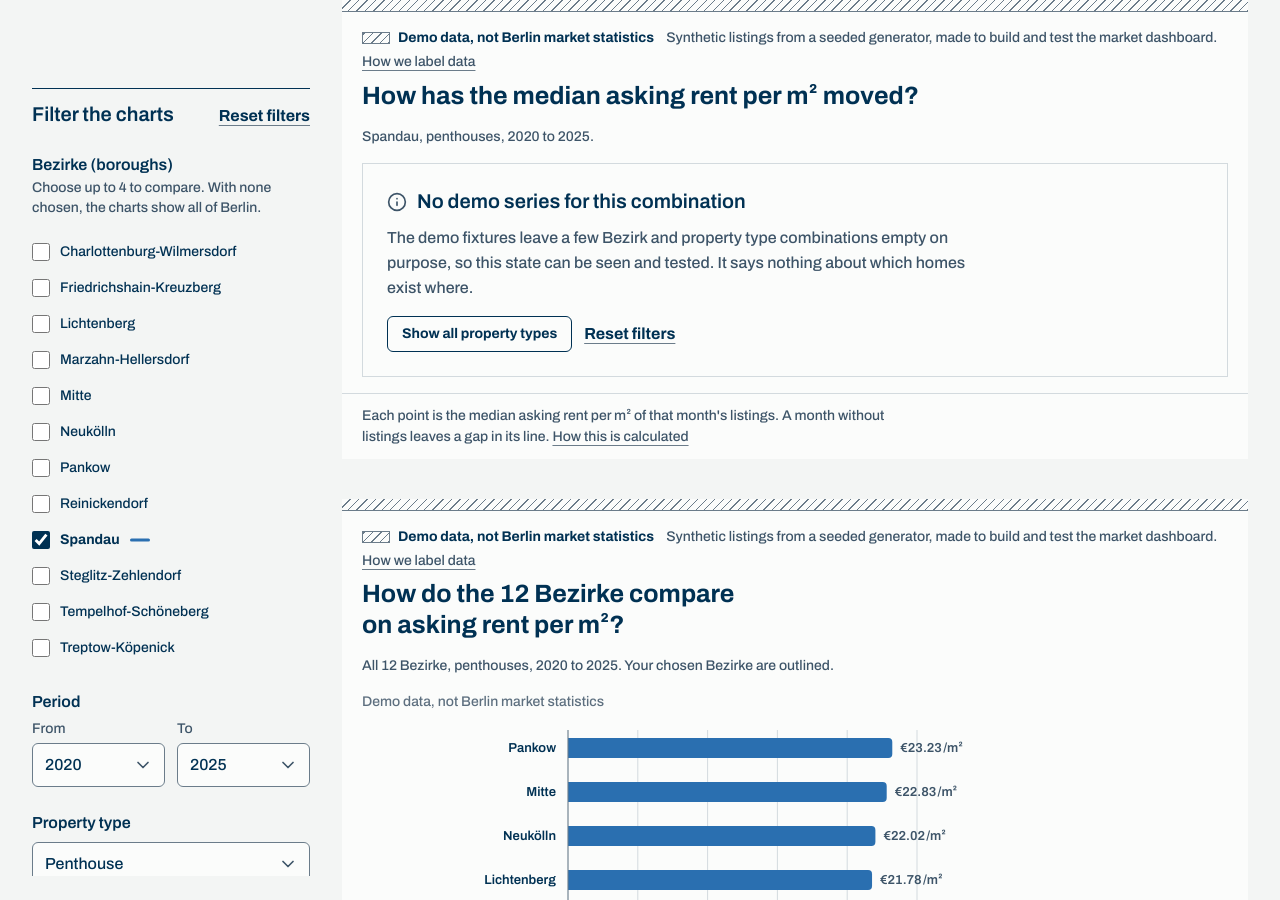
Test case: MarketView › shows the empty state for a combination without demo data, with a way out
The width and height of the screenshot is (1280, 900).
Expected: the heading "No demo series for this combination" is shown, [387, 190, 746, 212]
Click the button "Show all property types": (480, 334) [387, 316, 572, 352]
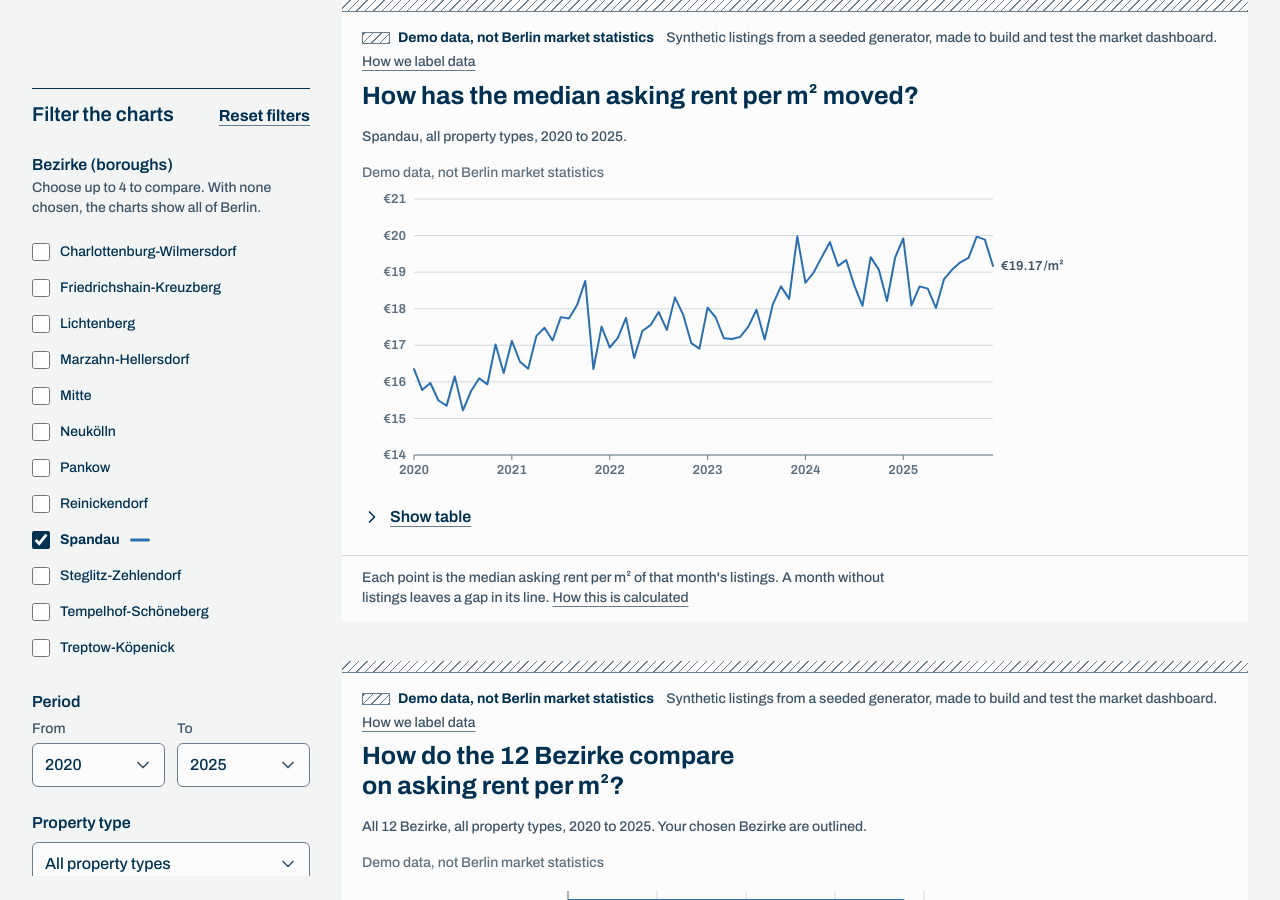
Now the slider named "Median asking rent per m², by month" is shown, box [362, 163, 1082, 483]
